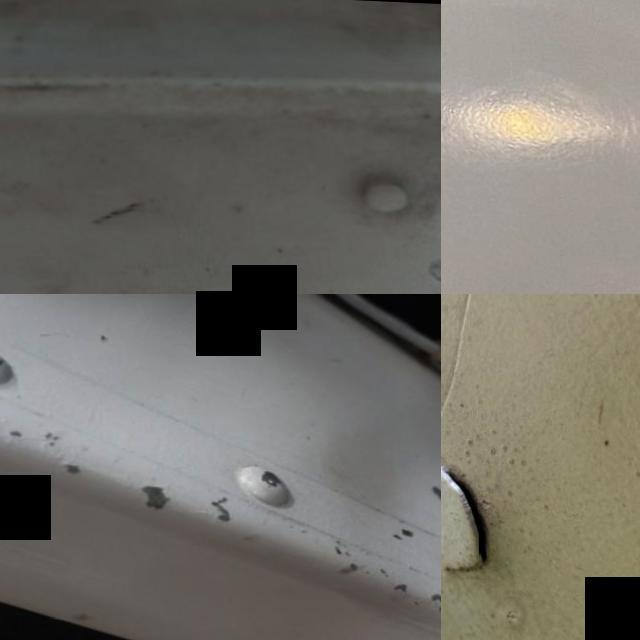Crack: (5, 416, 234, 530), (299, 512, 441, 640), (441, 436, 515, 587), (254, 466, 294, 491), (0, 340, 17, 381)
